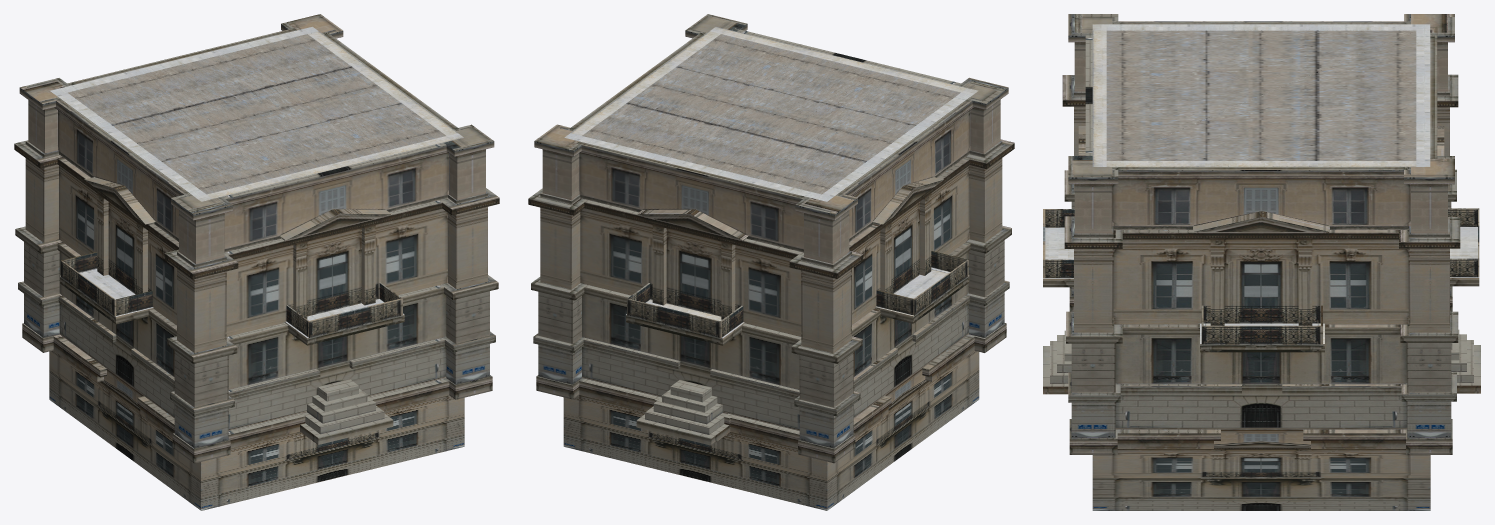
Rendered from BagBuilding6_70.fbx.
3 views of the same model, side by side, from view 1: azimuth 30°, elevation 25°; view 2: azimuth 150°, elevation 25°; view 3: azimuth 270°, elevation 25° (orthographic). The views are drawn at different scales.
Parts seen in each view (by area): view 1: main70, box700, roofA70, box70, roofAb70, steps70; view 2: main70, box700, roofA70, box70, roofAb70, steps70; view 3: main70, box700, roofA70, box70, roofAb70, steps70.
Boxes of the visible parts, x1,y1,x2,y2 form: main70: [14, 14, 499, 510]; box700: [58, 110, 448, 428]; roofA70: [68, 34, 445, 194]; box70: [49, 333, 464, 510]; roofAb70: [50, 26, 463, 337]; steps70: [296, 379, 393, 444]; main70: [528, 14, 1014, 510]; box700: [579, 110, 970, 428]; roofA70: [582, 34, 960, 194]; box70: [563, 332, 979, 510]; roofAb70: [564, 26, 978, 338]; steps70: [636, 379, 733, 445]; main70: [1043, 14, 1479, 454]; box700: [1112, 179, 1410, 427]; roofA70: [1106, 30, 1416, 160]; box70: [1092, 427, 1430, 510]; roofAb70: [1043, 24, 1479, 343]; steps70: [1043, 329, 1480, 394].
Size of the model in its own units: 21.24 by 18.51 by 21.35.
